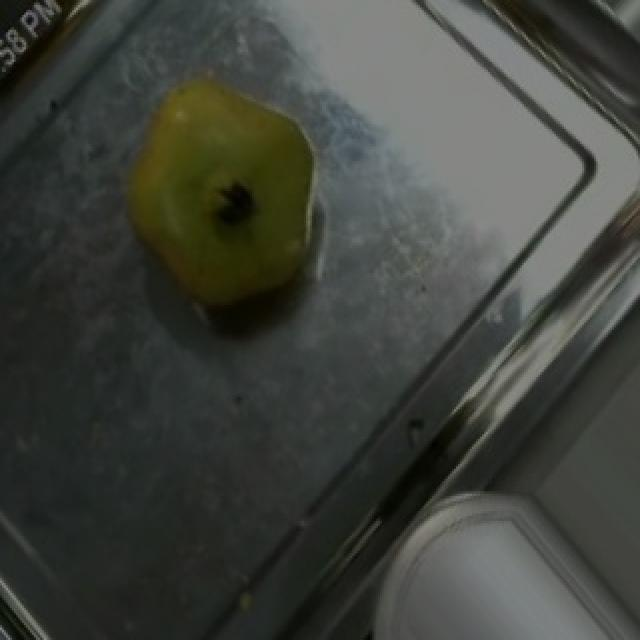fruit: (102, 49, 352, 335)
